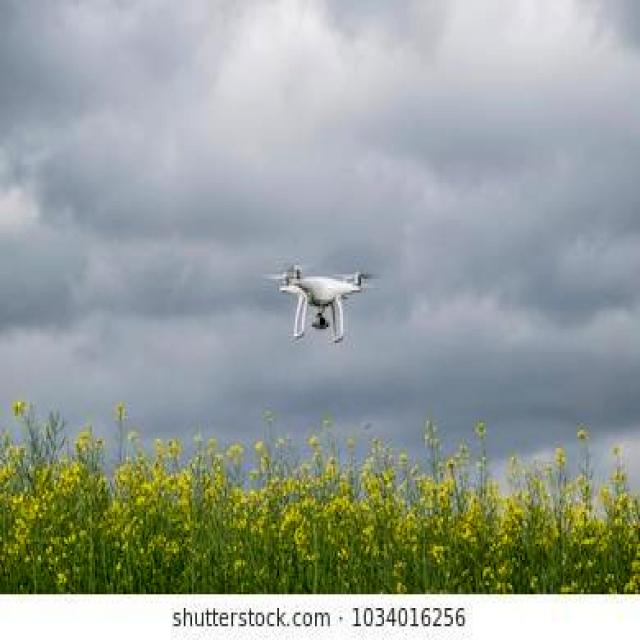drone: (263, 254, 375, 345)
